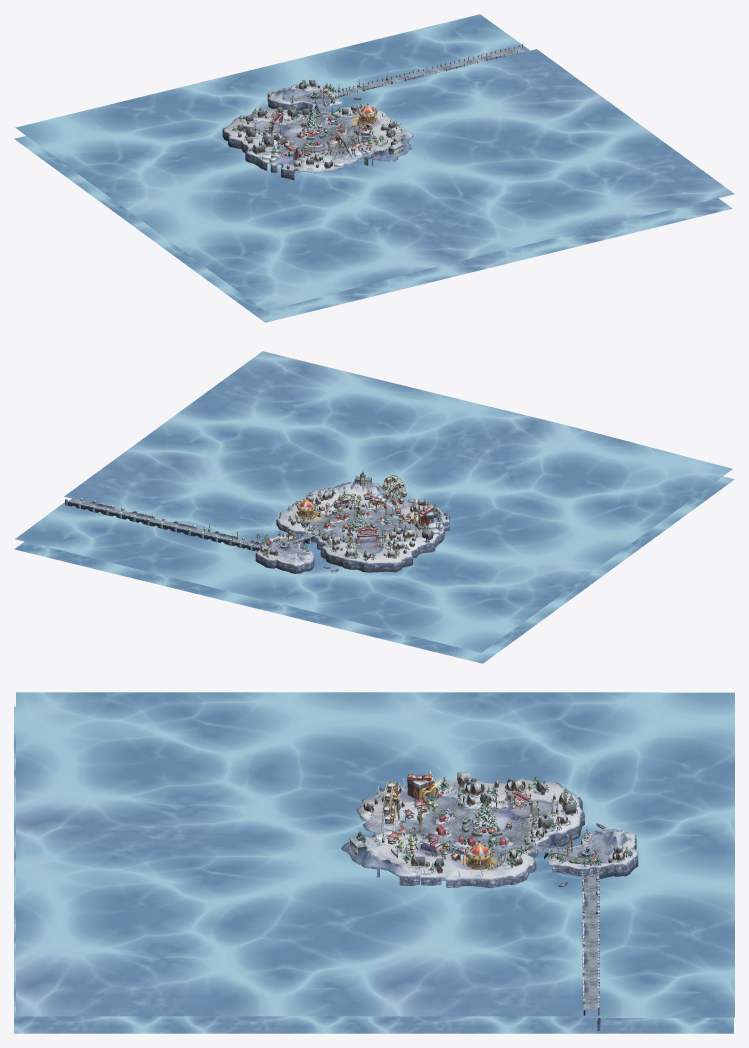
Rendered from febg_christmas_001_04.glb.
3 views of the same model, one above another, from view 1: azimuth 30°, elevation 25°; view 2: azimuth 150°, elevation 25°; view 3: azimuth 270°, elevation 25° (orthographic). The views are drawn at different scales.
Visible parts, largest first — view 1: febg_christmas_001_ice_01, febg_christmas_001_ice_02, febg_christmas_001_bg_01; view 2: febg_christmas_001_ice_01, febg_christmas_001_bg_01, febg_christmas_001_ice_02, febg_christmas_001_ferriswheel_01; view 3: febg_christmas_001_ice_01, febg_christmas_001_bg_01, febg_christmas_001_ice_02, febg_christmas_001_gifthouse_01, febg_christmas_001_ferriswheel_01, febg_christmas_001_bridge_01 (5), febg_christmas_001_carousel_01.
Boxes of the visible parts, x1,y1,x2,y2 form: febg_christmas_001_ice_01: (15,14,734,311); febg_christmas_001_ice_02: (14,105,732,322); febg_christmas_001_bg_01: (222,83,413,180); febg_christmas_001_ice_01: (15,351,732,652); febg_christmas_001_bg_01: (255,481,449,573); febg_christmas_001_ice_02: (14,476,734,663); febg_christmas_001_ferriswheel_01: (382,475,406,508); febg_christmas_001_ice_01: (16,692,734,1017); febg_christmas_001_bg_01: (341,778,638,888); febg_christmas_001_ice_02: (14,706,733,1033); febg_christmas_001_gifthouse_01: (407,773,439,802); febg_christmas_001_ferriswheel_01: (381,781,400,831); febg_christmas_001_bridge_01 (5): (582,977,600,1030); febg_christmas_001_carousel_01: (465,842,493,869).
Bounding box in the file's own units: 247 × 24.38 × 229.
Materials: 16 (16 with a texture image).
